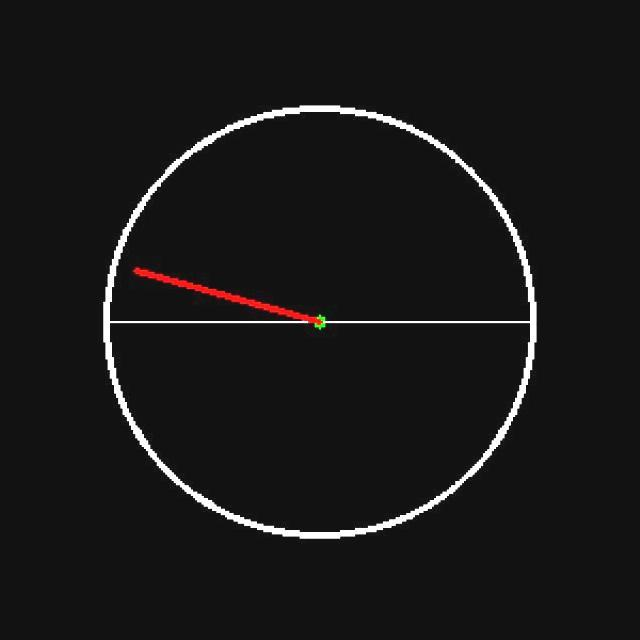Needle_Tip: (127, 248, 158, 295)
Needle_base: (283, 298, 356, 360)
